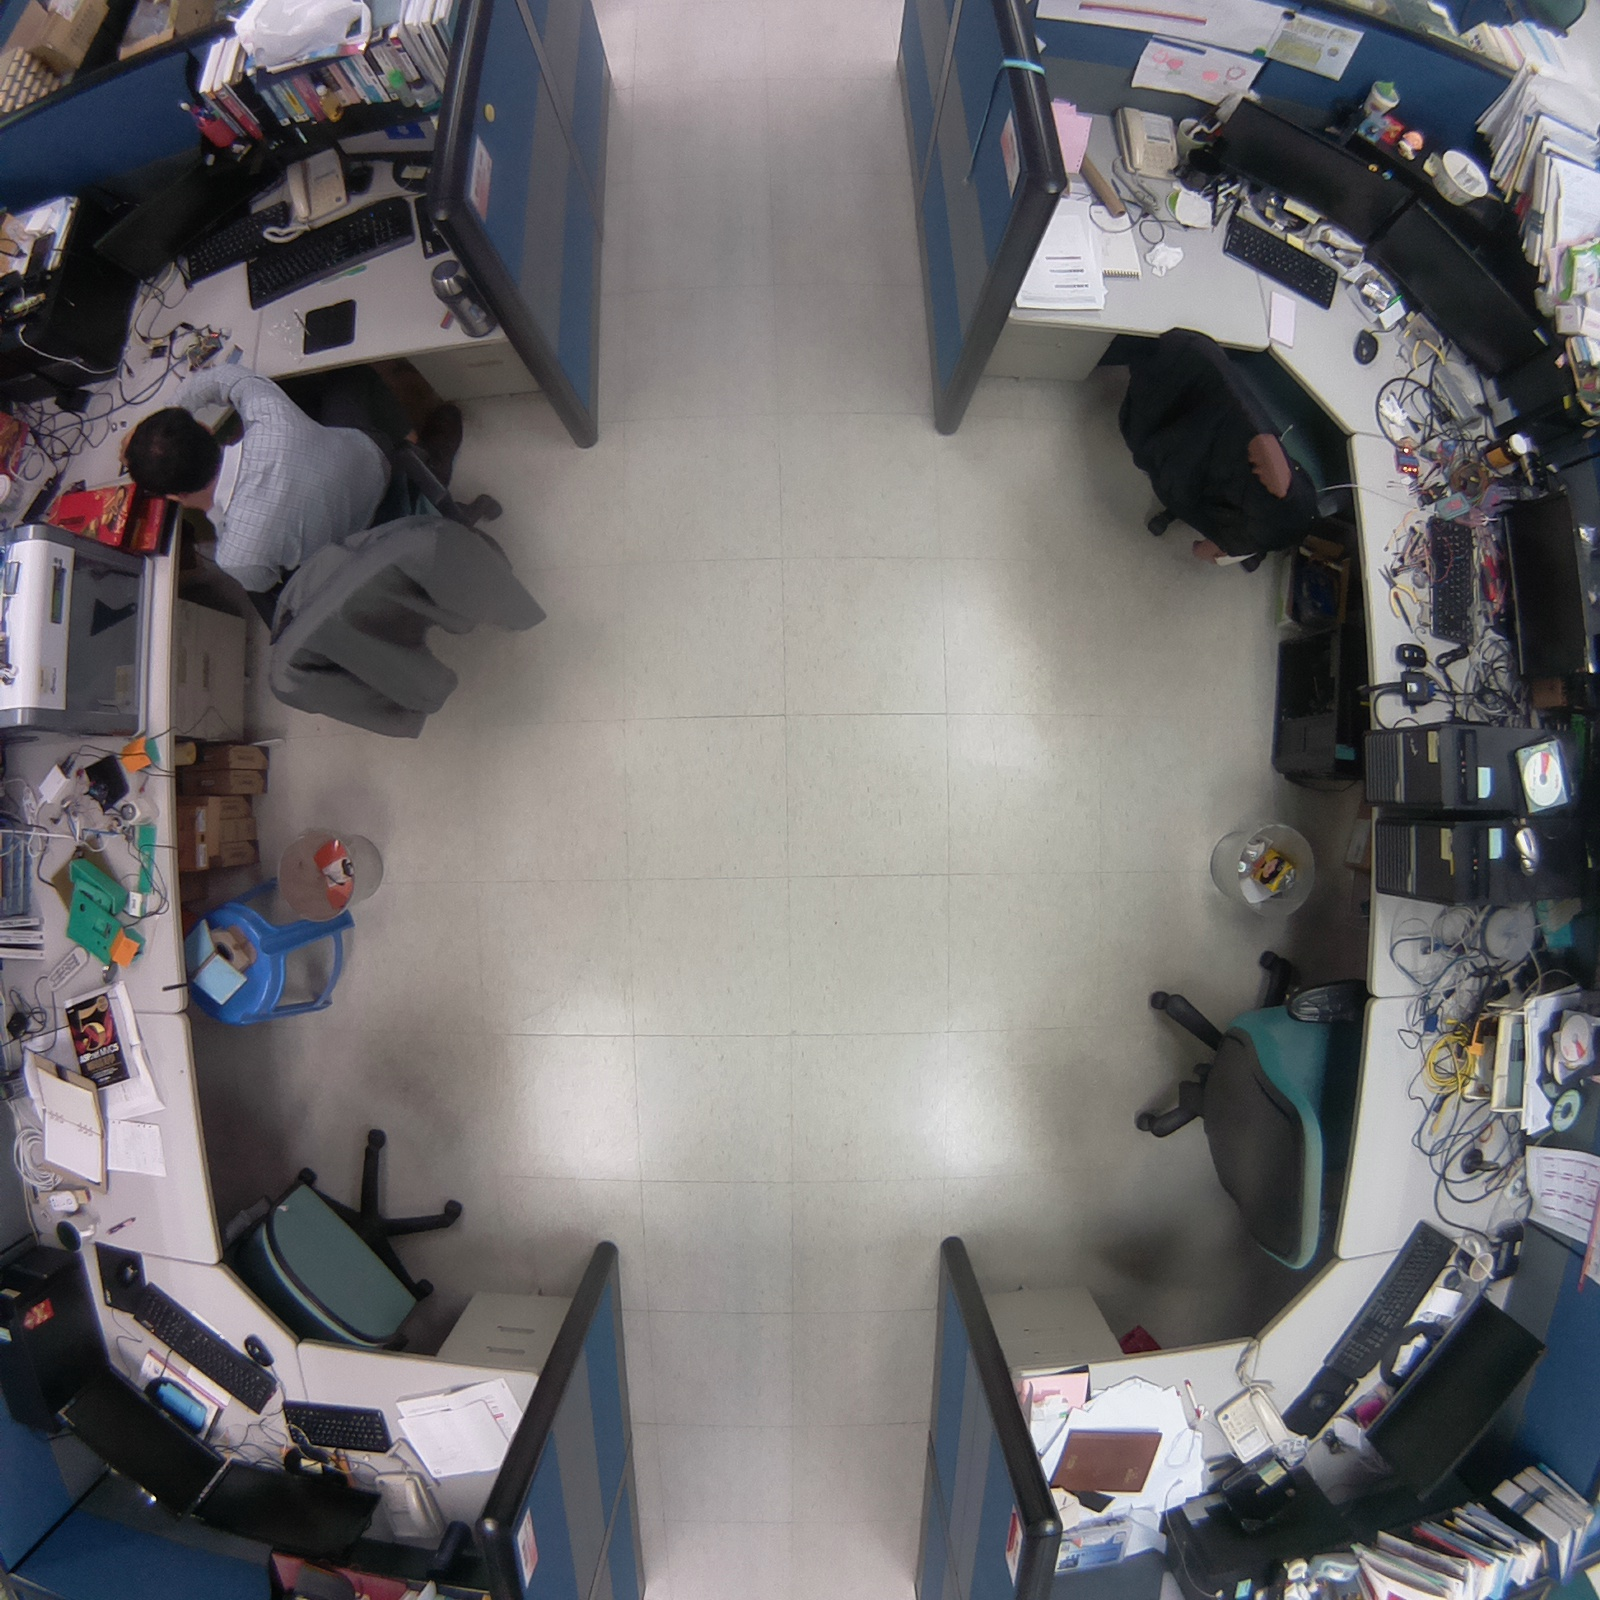chair: (1124, 922, 1363, 1291), (201, 1104, 478, 1375), (1106, 296, 1353, 591)
head: (112, 395, 227, 525)
sitting: (118, 352, 558, 760)
